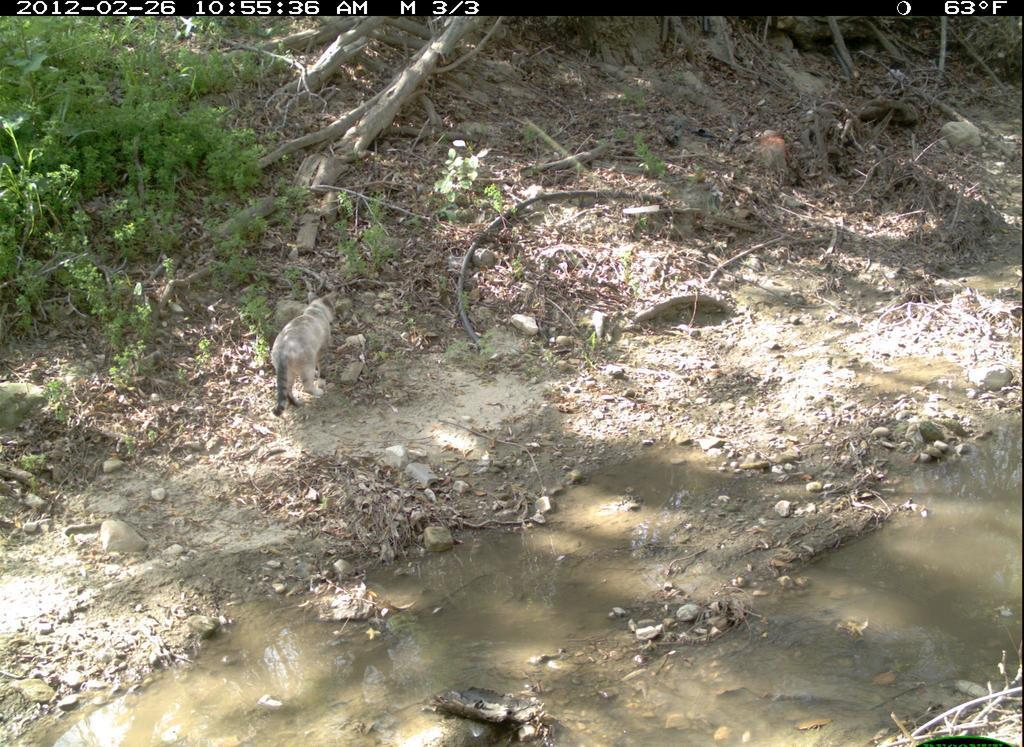cat: (272, 286, 360, 423)
